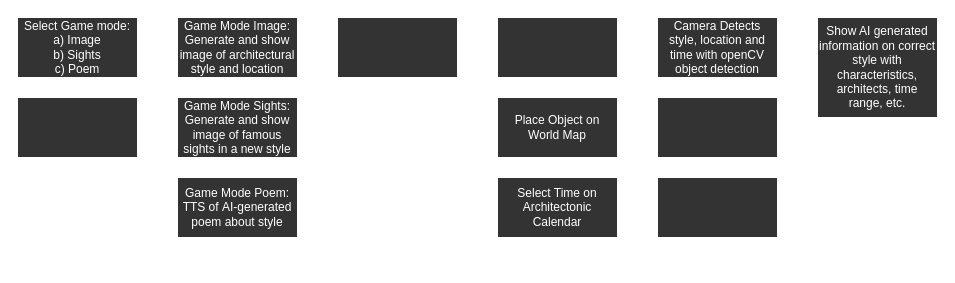
This 955x283 diagram has some shape labels left out. Each missing label, with the box of its shape:
Compute Correctness Score: (656, 96, 778, 158)
Random Architectural Style, Location, (Site): (16, 96, 138, 158)
Rank Score vs. other Players, Teams or on Tier List: (656, 176, 778, 238)
Select 3D printed Object for Style (and Site): (496, 16, 618, 78)
User guesses: Style, Location, Time, (Site): (336, 16, 458, 78)
